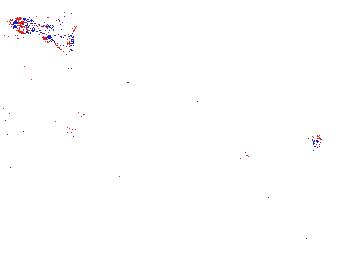red belly glassfish: (307, 128, 324, 151), (240, 143, 253, 165)
redtail glassfish: (1, 111, 91, 147), (7, 14, 81, 49)
